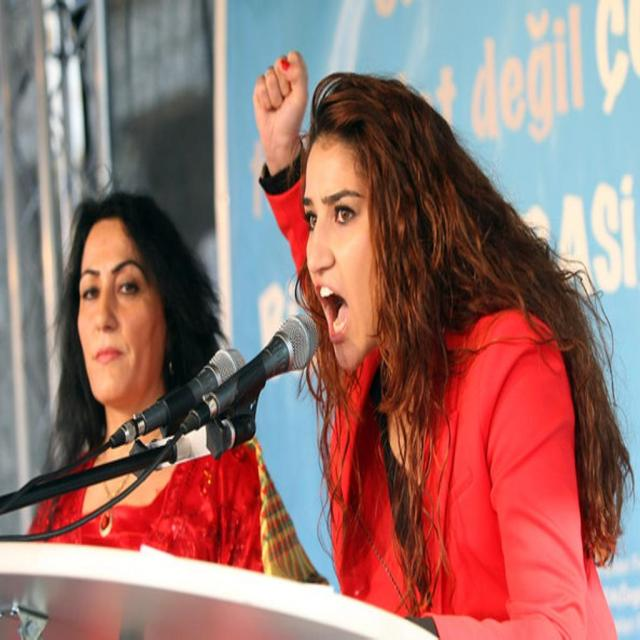Face: (300, 124, 393, 375), (64, 224, 165, 415)
